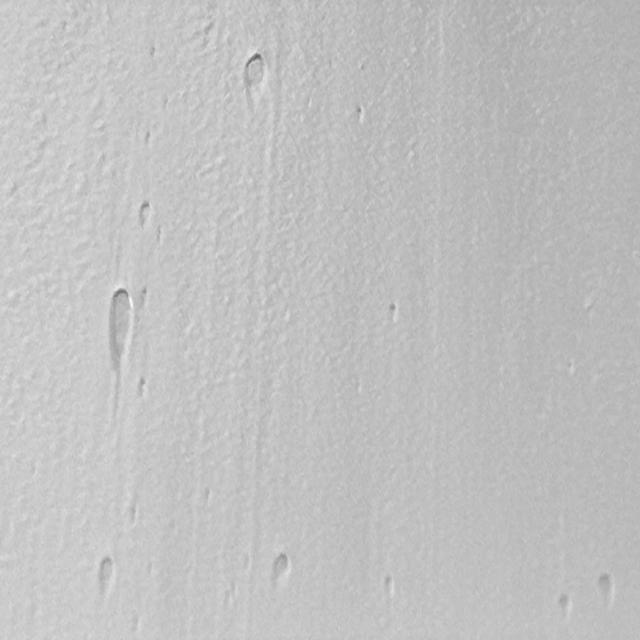pin holes: (104, 292, 136, 360), (241, 53, 270, 98), (95, 558, 119, 597), (595, 572, 619, 606), (270, 552, 292, 585), (554, 592, 575, 624), (136, 200, 156, 230), (380, 573, 400, 601), (384, 300, 404, 326), (135, 376, 152, 402), (138, 284, 154, 310), (130, 500, 140, 529), (352, 105, 366, 125), (146, 44, 160, 61), (204, 486, 212, 508), (145, 130, 152, 146), (157, 224, 162, 246), (163, 97, 170, 112)
